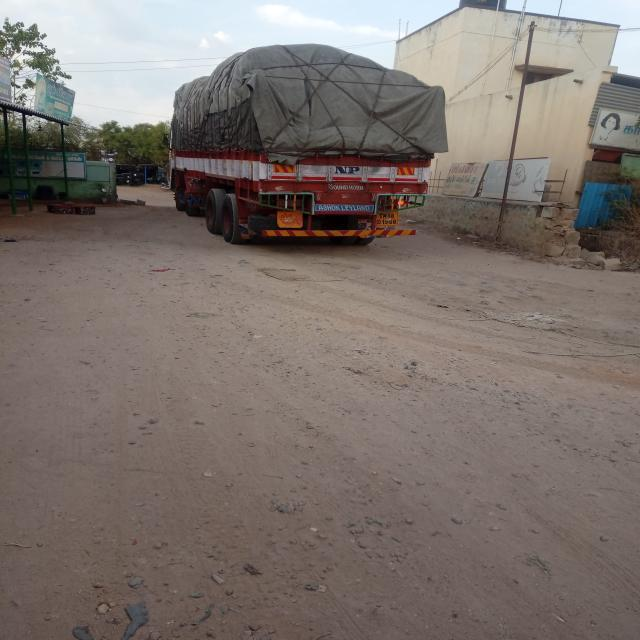truck_back: (165, 38, 452, 254)
